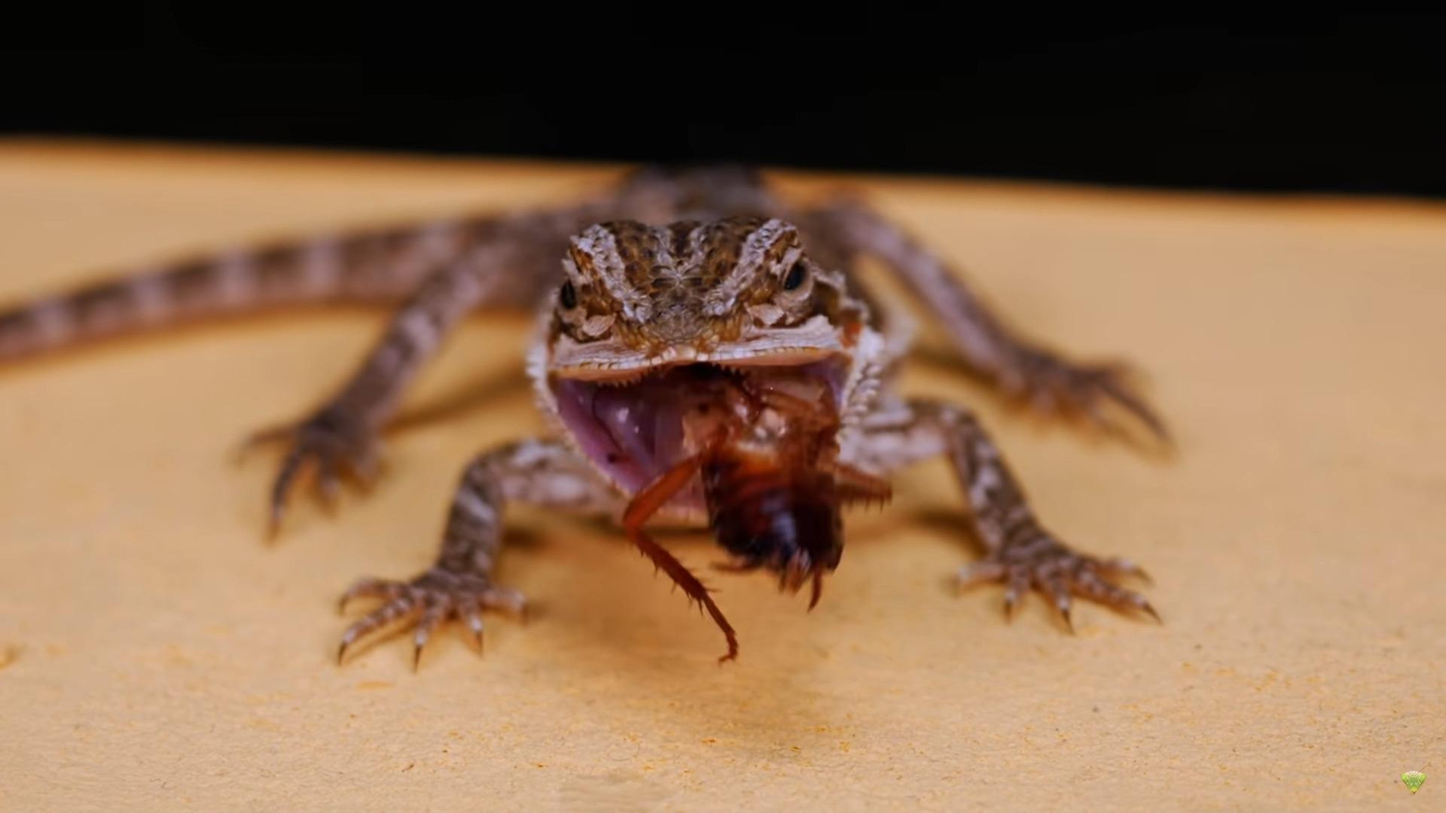cockroach: (619, 373, 892, 674)
lizard: (332, 207, 1162, 759)
